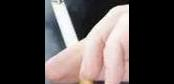Cigarette: (47, 0, 97, 84)
